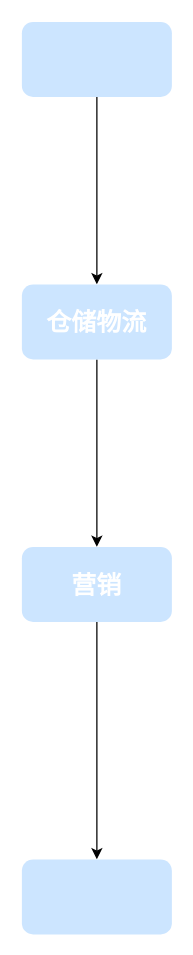
Image size: 193x955. Some labels were removed from this diagram. The centre of each missing label's shape, as x and y in pixels:
产品: the point at 96,896
订单: the point at 96,58
